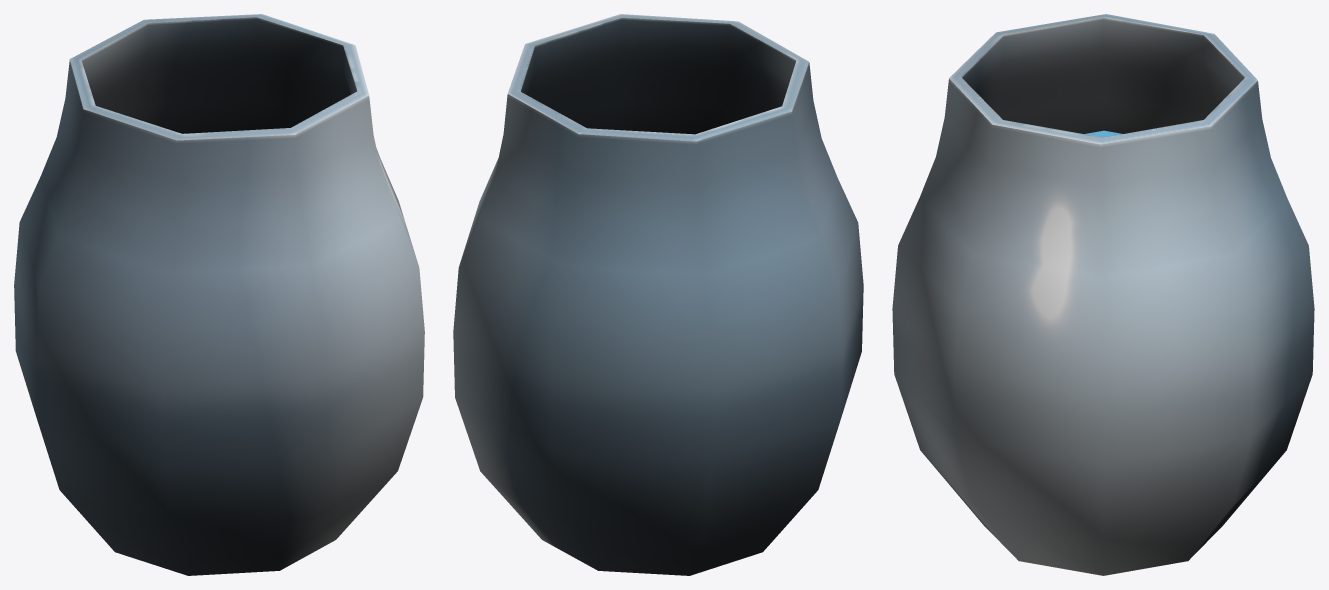
File: Bachwasser_Cocktail_v01.glb
3 renders of one model, left to right at view 1: azimuth 30°, elevation 25°; view 2: azimuth 150°, elevation 25°; view 3: azimuth 270°, elevation 25°, orthographic.
Visible parts, largest first — view 1: CocktailGlass; view 2: CocktailGlass; view 3: CocktailGlass.
Part boxes in pixels (x1,y1,x2,y2): CocktailGlass: (14,14,424,575); CocktailGlass: (453,14,863,575); CocktailGlass: (892,14,1314,575).
Size of the model in its own units: 0.0606 by 0.071 by 0.0606.
3 materials, 2 textured.
